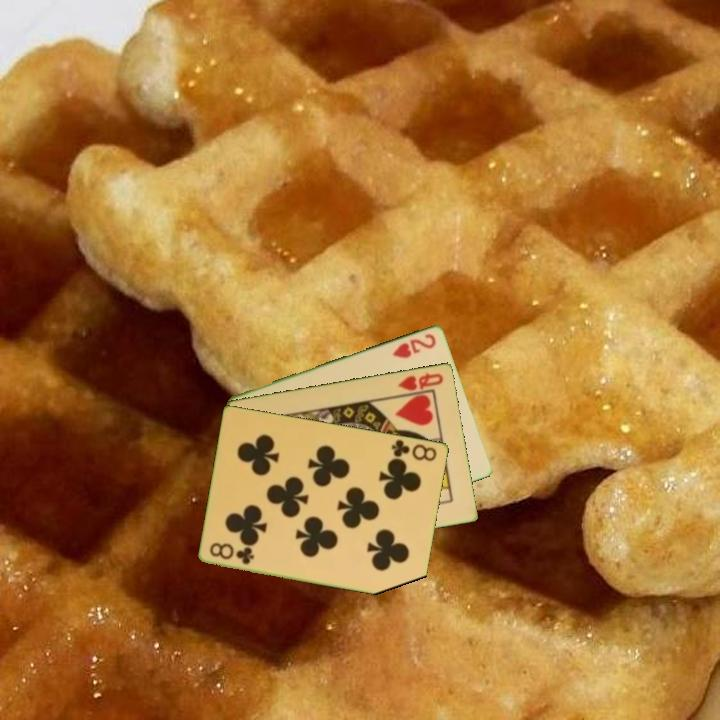2h: (389, 330, 439, 361)
8c: (388, 436, 440, 464), (206, 539, 257, 567)
Qh: (394, 368, 446, 393)
